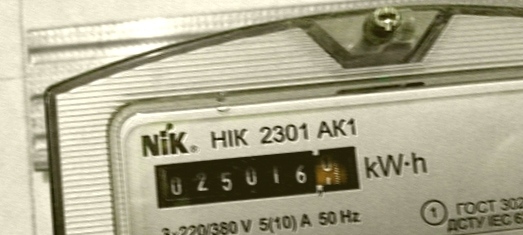0: (246, 166, 262, 190), (171, 176, 185, 199), (321, 154, 335, 175)
1: (271, 163, 284, 189), (325, 177, 334, 189)
2: (196, 171, 211, 195)
5: (221, 172, 234, 194)
6: (295, 163, 310, 189)
screen: (146, 138, 372, 218)
